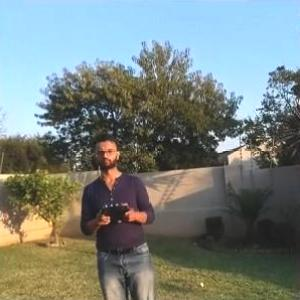follow: (76, 126, 163, 299)
